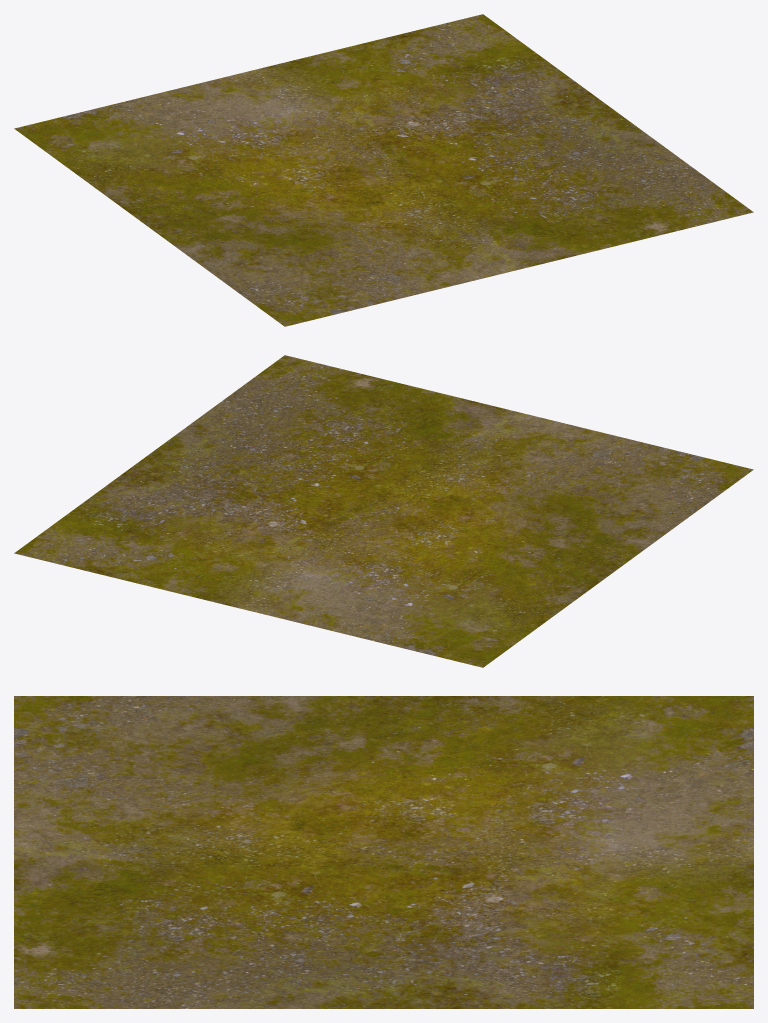
The model's file is ground.dae.
3 renders of one model, top to bottom at view 1: azimuth 30°, elevation 25°; view 2: azimuth 150°, elevation 25°; view 3: azimuth 270°, elevation 25°, orthographic. The views are drawn at different scales.
Parts seen in each view (by area): view 1: Plane; view 2: Plane; view 3: Plane.
Part boxes in pixels (x1=…): Plane: x1=14, y1=14, x2=753, y2=326; Plane: x1=14, y1=355, x2=753, y2=667; Plane: x1=14, y1=696, x2=753, y2=1008.
Size of the model in its own units: 20 by 20 by 0.
1 material, 1 textured.
